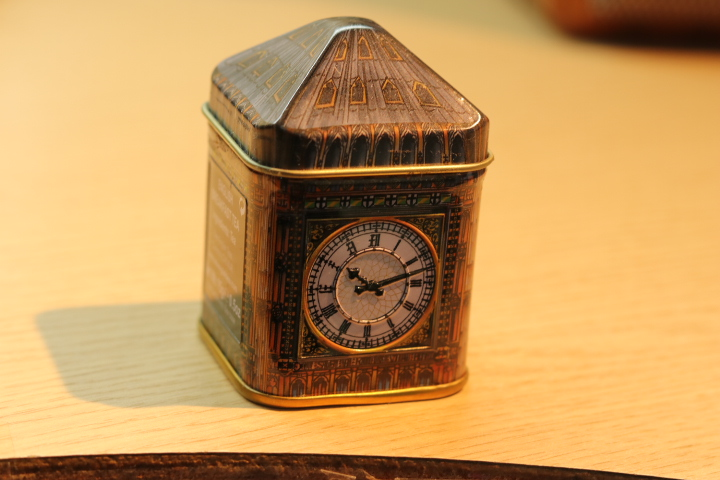Big Ben: (176, 8, 496, 411)
